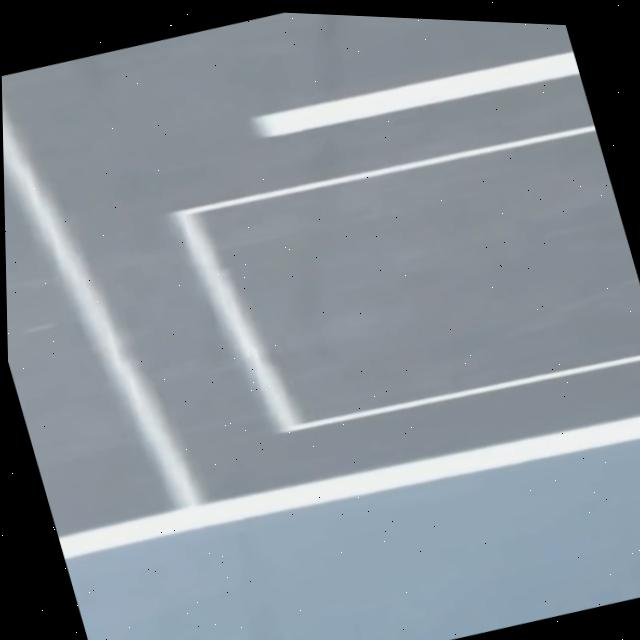center: (253, 50, 579, 136)
left: (58, 415, 640, 558)
